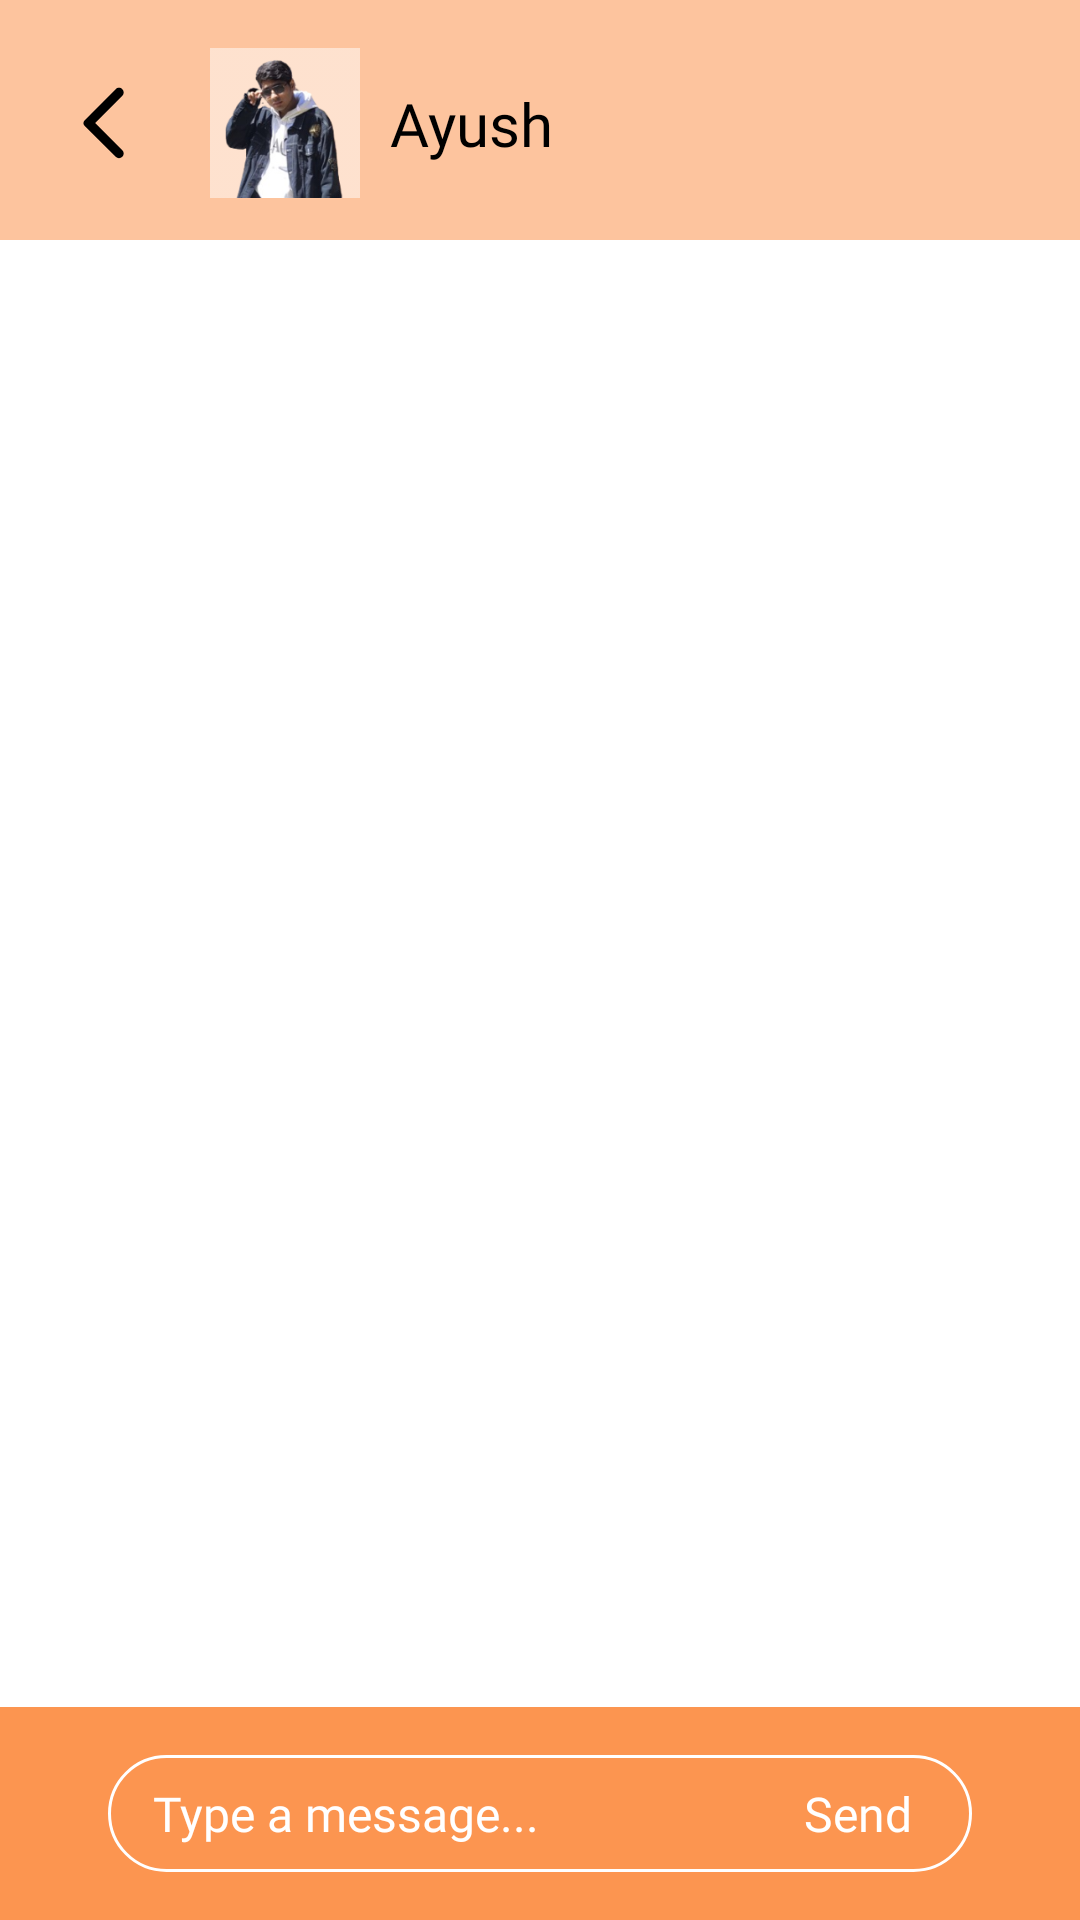

Screen size 1080px x 1920px. Icon name, then its box in pixels as (x1, y1, x2, y2):
arrow back: (83, 87, 124, 159)
